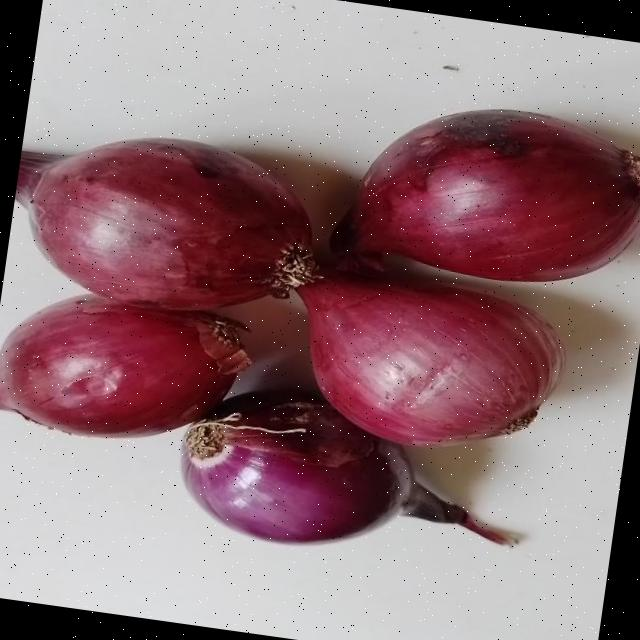Onion: (331, 109, 640, 280), (14, 138, 319, 309), (296, 272, 564, 444), (180, 393, 475, 544), (0, 298, 248, 436)
